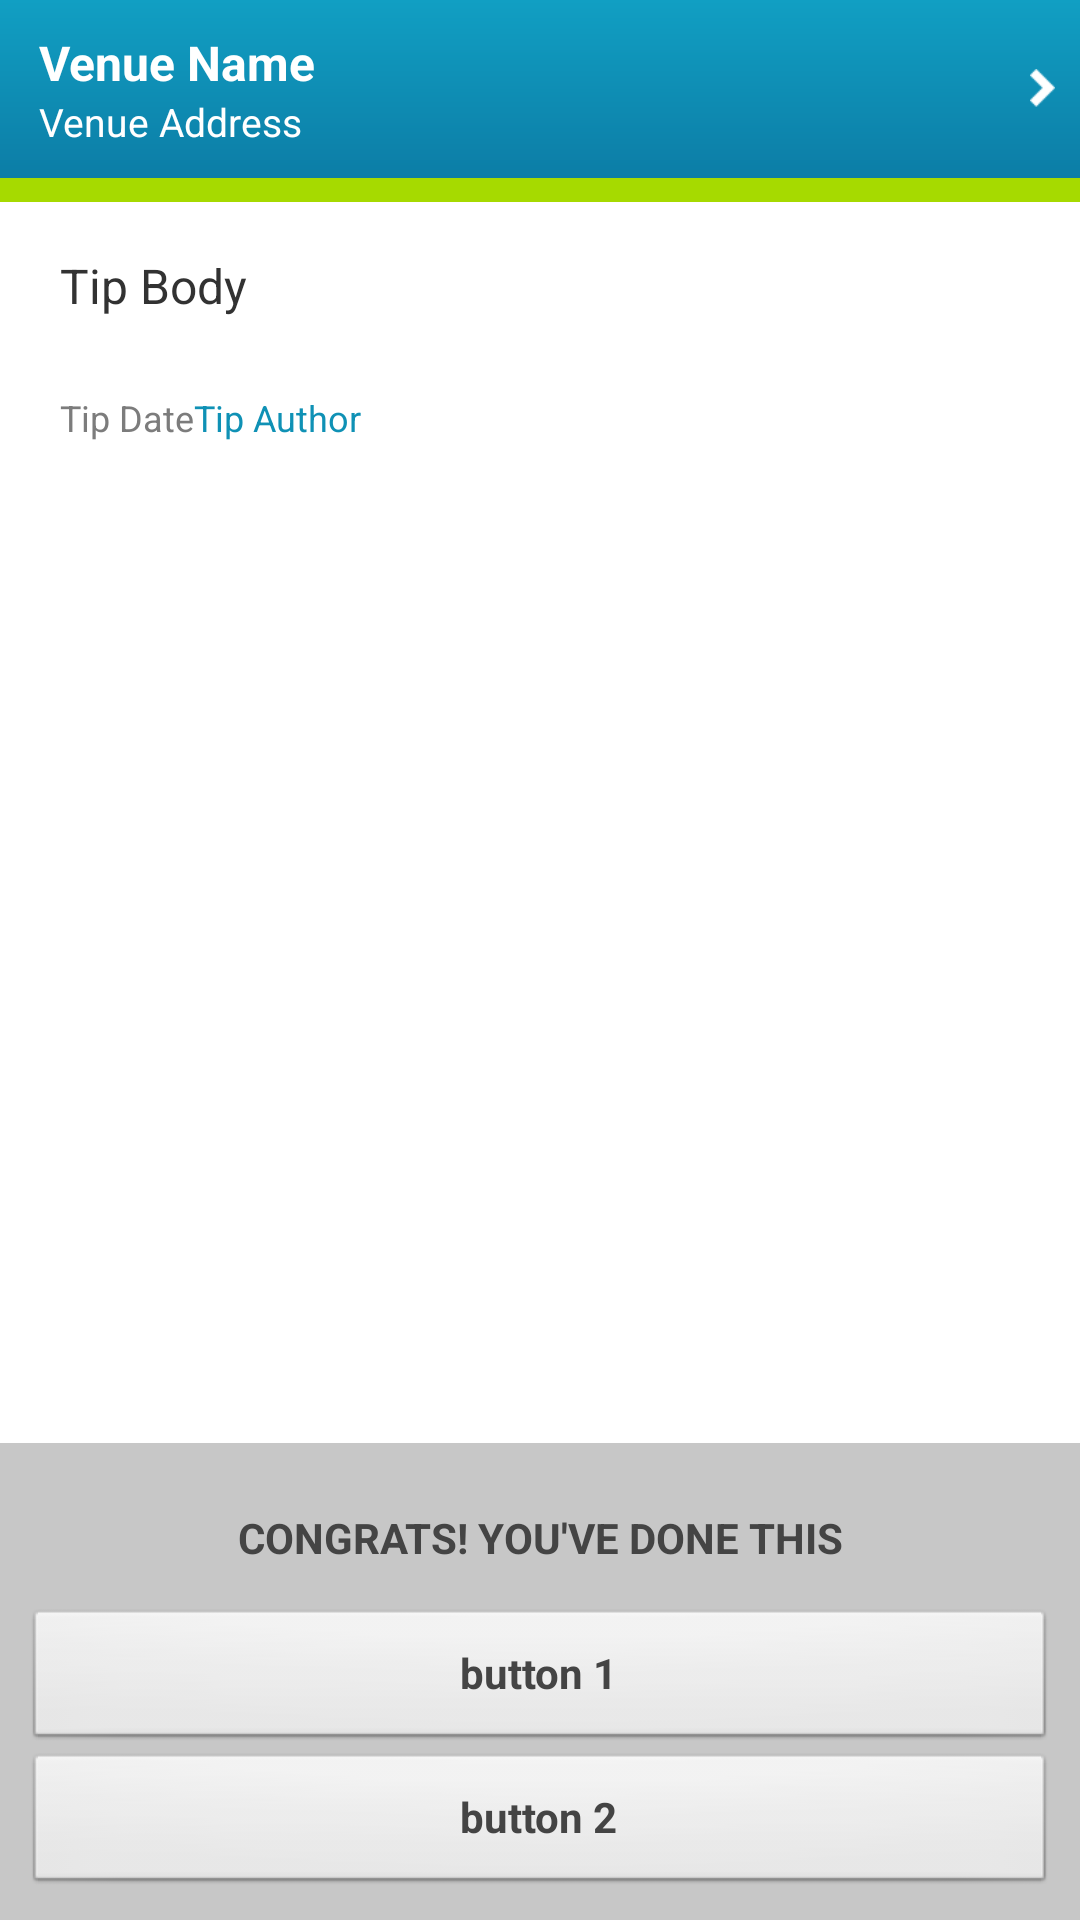

Icons on this 1080×1920 Android screen, each with its box as (x1, y1, x2, y2):
arrow: (1030, 69, 1055, 107)
